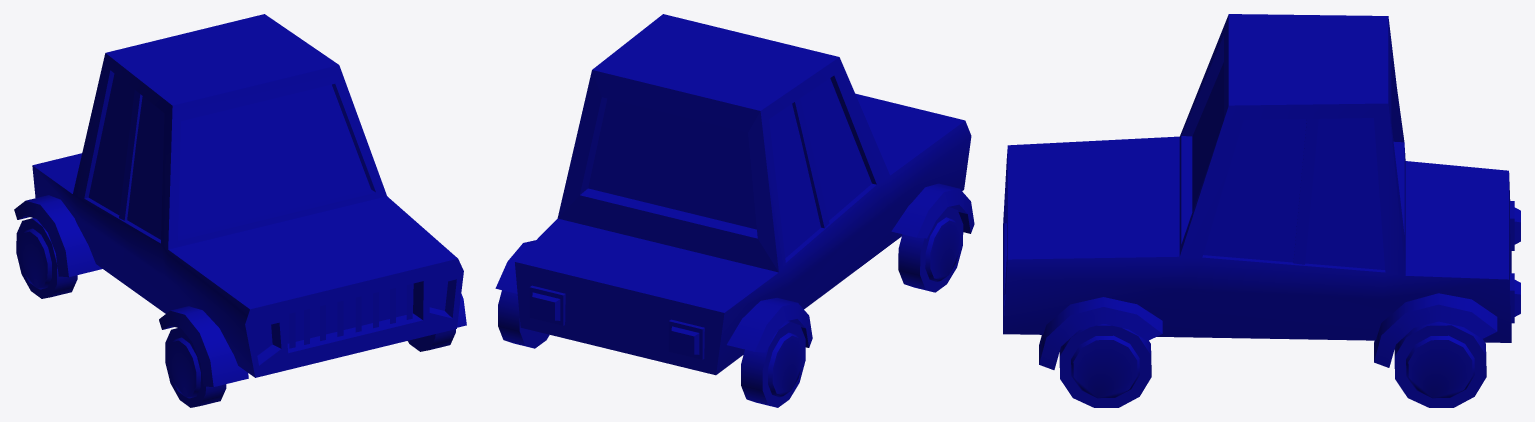
Rendered from Toy_Car01_001.fbx.
3 renders of one model, left to right at view 1: azimuth 30°, elevation 25°; view 2: azimuth 150°, elevation 25°; view 3: azimuth 270°, elevation 25°, orthographic. The views are drawn at different scales.
Parts seen in each view (by area): view 1: Toy_Car01_001; view 2: Toy_Car01_001; view 3: Toy_Car01_001.
Boxes of the visible parts, bbox=[...] form: Toy_Car01_001: bbox=[14, 14, 466, 407]; Toy_Car01_001: bbox=[495, 14, 974, 407]; Toy_Car01_001: bbox=[1003, 14, 1520, 407].
Bounding box in the file's own units: 39.63 × 36.17 × 60.71.
